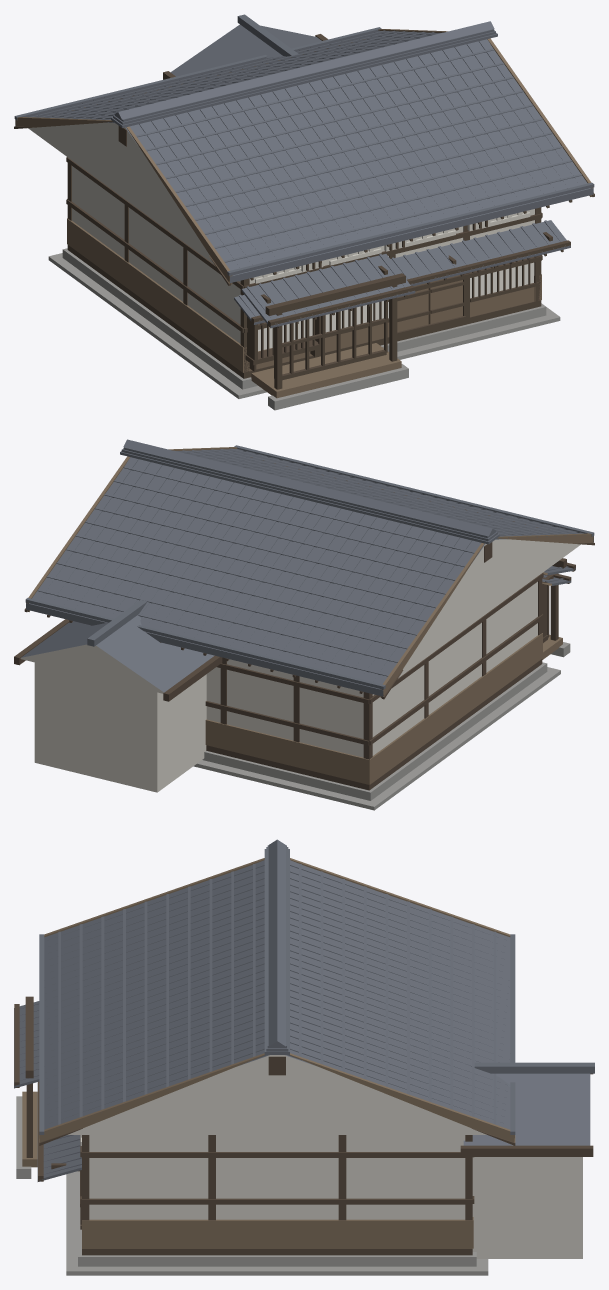
File: family_standard_machiya_02.glb
3 renders of one model, top to bottom at view 1: azimuth 30°, elevation 25°; view 2: azimuth 150°, elevation 25°; view 3: azimuth 270°, elevation 25°, orthographic. The views are drawn at different scales.
Parts seen in each view (by area): view 1: family_standard_machiya_02; view 2: family_standard_machiya_02; view 3: family_standard_machiya_02.
Boxes of the visible parts, left/top/right/bottom form: family_standard_machiya_02: left=14, top=14, right=594, bottom=410; family_standard_machiya_02: left=14, top=439, right=594, bottom=810; family_standard_machiya_02: left=14, top=839, right=594, bottom=1275.
Bounding box in the file's own units: 9.6 × 5.47 × 11.59.
